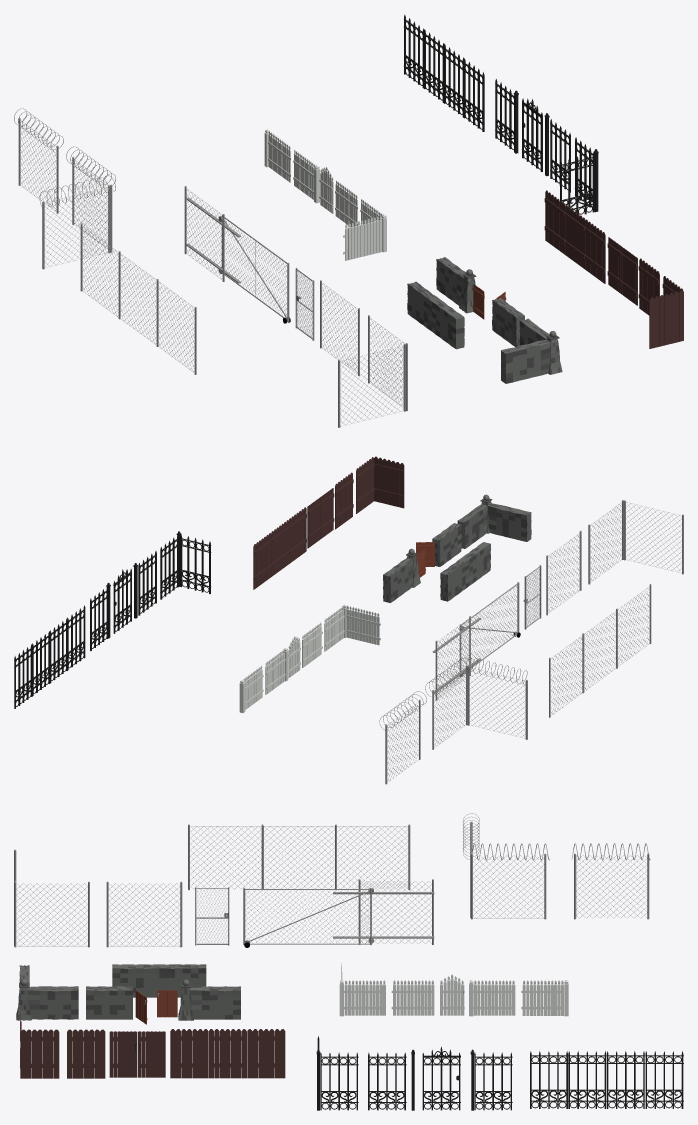
Rendered from fences and walls.fbx.
The picture shows the model from 3 angles, top to bottom: view 1: azimuth 30°, elevation 25°; view 2: azimuth 150°, elevation 25°; view 3: azimuth 270°, elevation 25°; orthographic projection. The views are drawn at different scales.
Visible parts, largest first — view 1: chain link fence (long), Iron fence (long), chain security fence (corner), tall wood fence (long), chain link fence (corner), stone wall (corner), chain link slider gate, stone wall (long), tall wood fence (corner), chain security fence, picket fence (corner), chain link gate connector (+14 smaller); view 2: chain link fence (long), chain security fence (corner), Iron fence (long), tall wood fence (long), chain link fence (corner), stone wall (corner), tall wood fence (corner), iron fence (corner), chain link slider gate, picket fence (corner), stone wall (long), chain security fence (+14 smaller); view 3: tall wood fence (long), Iron fence (long), chain link fence (long), chain link slider gate, stone wall (long), chain security fence (corner), stone wall (corner), stone wall end, chain link gate connector, tall wood fence (corner), chain security fence, tall wood fence (+16 smaller).
Boxes of the visible parts, <box> form: chain link fence (long): <box>80,223,196,374</box>; Iron fence (long): <box>404,14,484,131</box>; chain security fence (corner): <box>39,146,115,269</box>; tall wood fence (long): <box>544,190,605,283</box>; chain link fence (corner): <box>338,315,407,427</box>; stone wall (corner): <box>501,318,562,383</box>; chain link slider gate: <box>218,215,290,323</box>; stone wall (long): <box>407,281,464,349</box>; tall wood fence (corner): <box>649,276,683,348</box>; chain security fence: <box>14,108,63,213</box>; picket fence (corner): <box>343,198,386,260</box>; chain link gate connector: <box>184,186,240,283</box>; chain link fence (long): <box>549,584,651,717</box>; chain security fence (corner): <box>425,656,527,749</box>; Iron fence (long): <box>14,605,85,708</box>; tall wood fence (long): <box>253,507,306,589</box>; chain link fence (corner): <box>588,500,683,584</box>; stone wall (corner): <box>457,494,531,548</box>; tall wood fence (corner): <box>356,456,404,513</box>; iron fence (corner): <box>160,531,211,599</box>; chain link slider gate: <box>459,582,520,676</box>; picket fence (corner): <box>324,604,380,651</box>; stone wall (long): <box>440,542,490,601</box>; chain security fence: <box>379,691,426,784</box>; tall wood fence (long): <box>170,1029,285,1078</box>; Iron fence (long): <box>530,1051,683,1108</box>; chain link fence (long): <box>188,824,410,890</box>; chain link slider gate: <box>243,887,373,947</box>; stone wall (long): <box>112,964,206,997</box>; chain security fence (corner): <box>463,813,549,919</box>; stone wall (corner): <box>16,965,78,1020</box>; stone wall end: <box>178,979,240,1020</box>; chain link gate connector: <box>333,879,434,944</box>; tall wood fence (corner): <box>20,1014,59,1078</box>; chain security fence: <box>571,843,650,919</box>; tall wood fence: <box>67,1029,105,1078</box>.
Size of the model in its own units: 1793 by 278 by 2260.
